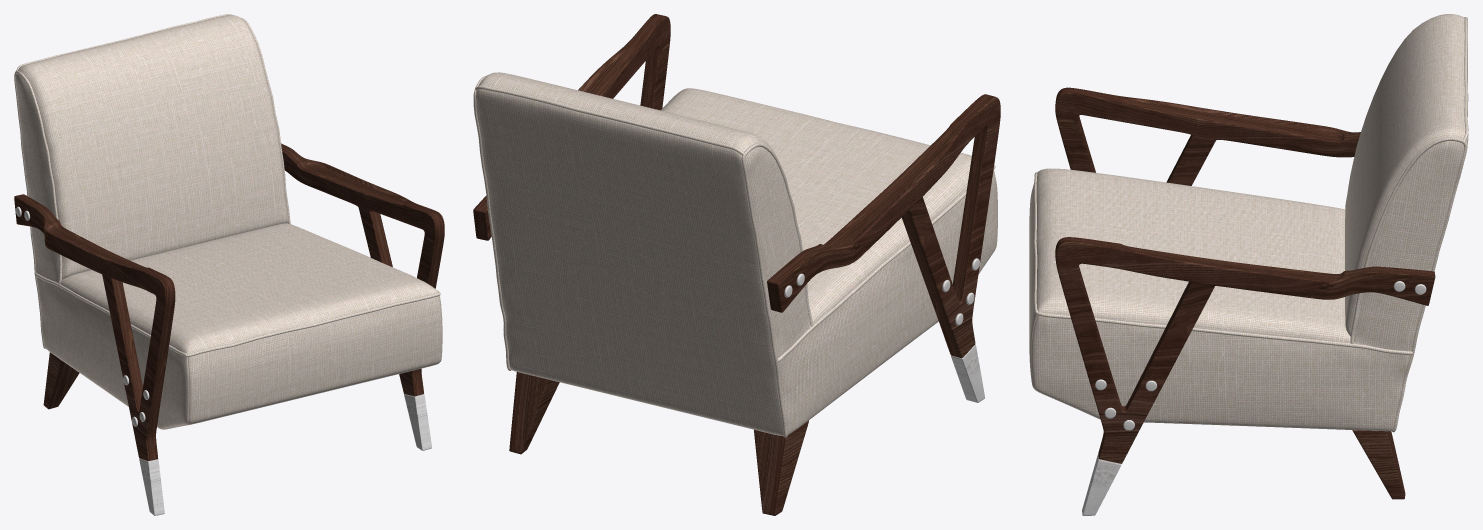
Rendered from kollusandalye.glb.
3 renders of one model, left to right at view 1: azimuth 30°, elevation 25°; view 2: azimuth 150°, elevation 25°; view 3: azimuth 270°, elevation 25°, orthographic. The views are drawn at different scales.
Visible parts, largest first — view 1: kumas, KOL, dugme; view 2: kumas, KOL, dugme; view 3: kumas, KOL, dugme.
Part boxes in pixels (x1,y1,x2,y2): kumas: (14, 14, 442, 429); KOL: (14, 143, 444, 460); dugme: (15, 206, 431, 515); kumas: (473, 72, 997, 437); KOL: (473, 14, 1000, 515); dugme: (784, 258, 984, 402); kumas: (1029, 14, 1468, 432); KOL: (1055, 87, 1435, 499); dugme: (1082, 281, 1426, 515).
Size of the model in its own units: 0.7038 by 0.7662 by 0.8276.
Materials: 3 (3 with a texture image).
